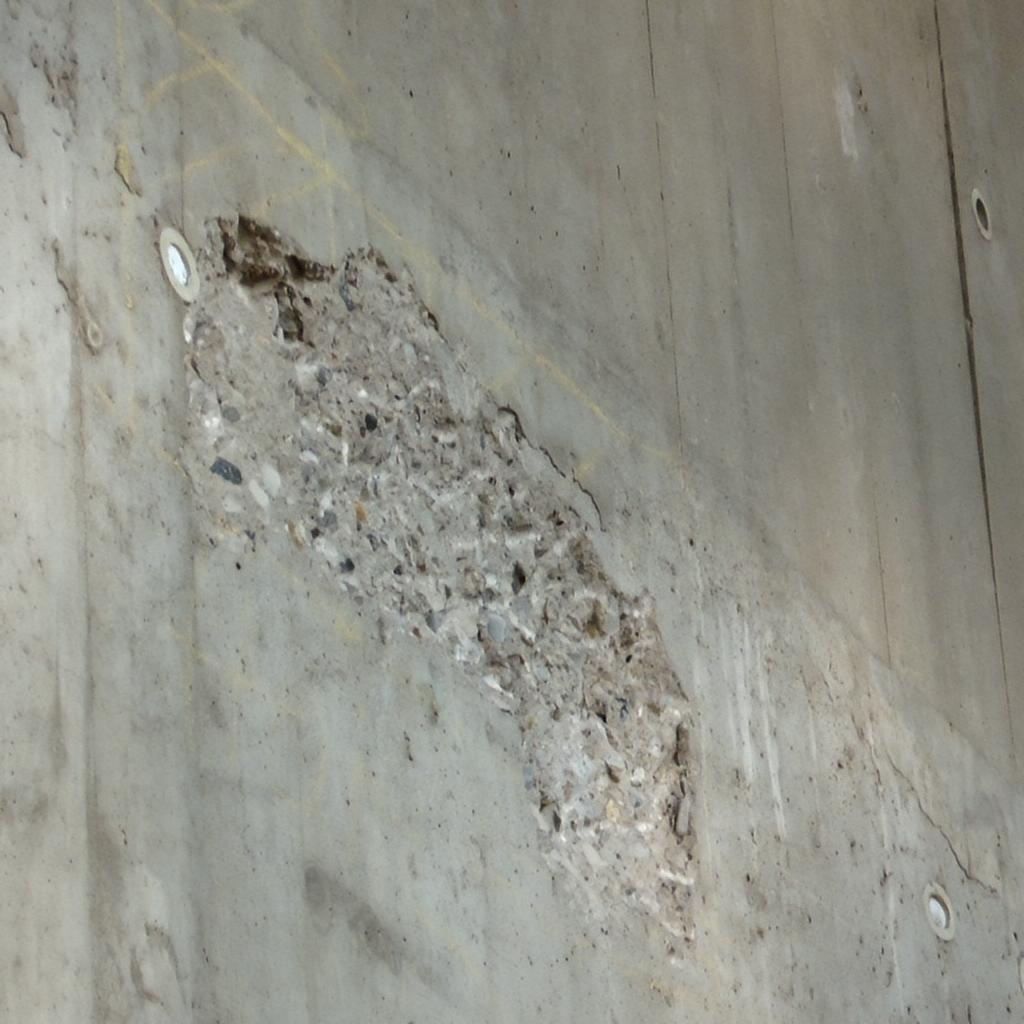spalling: (184, 218, 692, 947)
